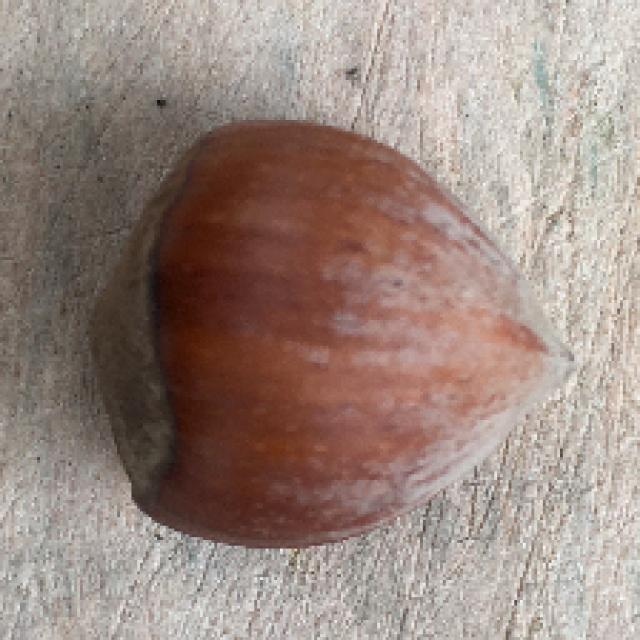qualityHazelnut: (90, 116, 578, 549)
